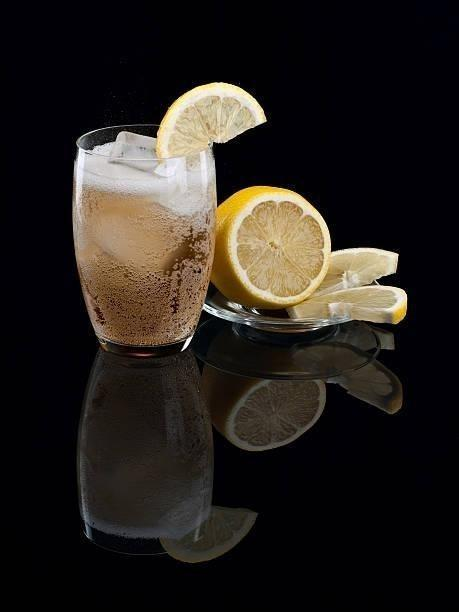glass-normal: (71, 122, 219, 354)
